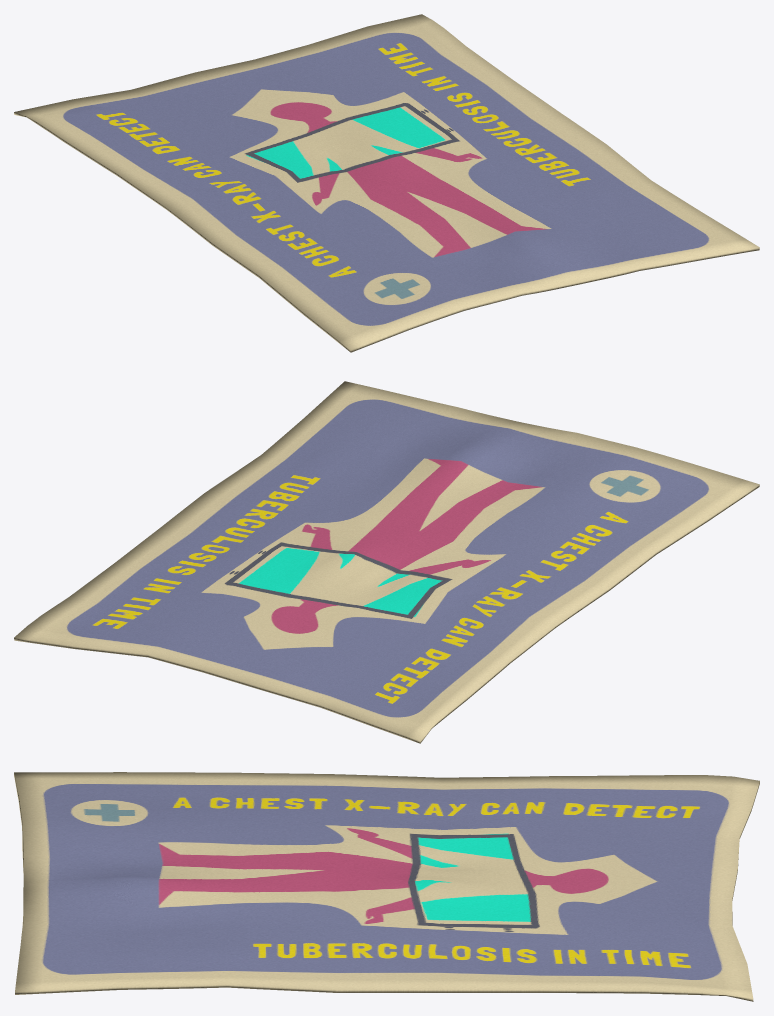
File: plakat3.glb
3 renders of one model, top to bottom at view 1: azimuth 30°, elevation 25°; view 2: azimuth 150°, elevation 25°; view 3: azimuth 270°, elevation 25°, orthographic. The views are drawn at different scales.
Parts seen in each view (by area): view 1: plakat3; view 2: plakat3; view 3: plakat3.
Boxes of the visible parts, x1,y1,x2,y2 form: plakat3: (14,14,759,352); plakat3: (14,381,759,743); plakat3: (14,772,759,1001).
Bounding box in the file's own units: 2.95 × 0.1841 × 4.18.
1 material, 1 textured.
